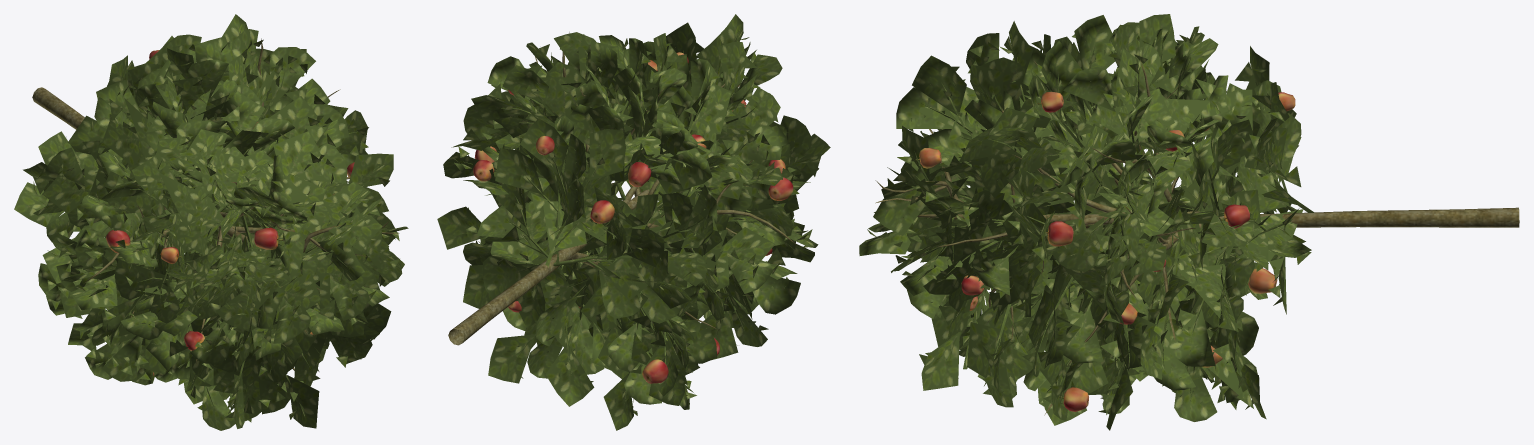
Rendered from appletree.obj.
3 views of the same model, side by side, from view 1: azimuth 30°, elevation 25°; view 2: azimuth 150°, elevation 25°; view 3: azimuth 270°, elevation 25° (orthographic). The views are drawn at different scales.
Parts seen in each view (by area): view 1: Object_22, Object_20, Object_24; view 2: Object_22, Object_20, Object_24; view 3: Object_22, Object_20, Object_24.
Boxes of the visible parts, x1,y1,x2,y2 form: Object_22: [14, 14, 408, 430]; Object_20: [32, 38, 399, 370]; Object_24: [106, 50, 354, 375]; Object_22: [437, 14, 830, 430]; Object_20: [448, 32, 796, 345]; Object_24: [473, 52, 793, 383]; Object_22: [859, 14, 1314, 430]; Object_20: [875, 60, 1519, 415]; Object_24: [915, 91, 1295, 411].
Bounding box in the file's own units: 0.3154 × 0.3426 × 0.512.
3 materials, 3 textured.
